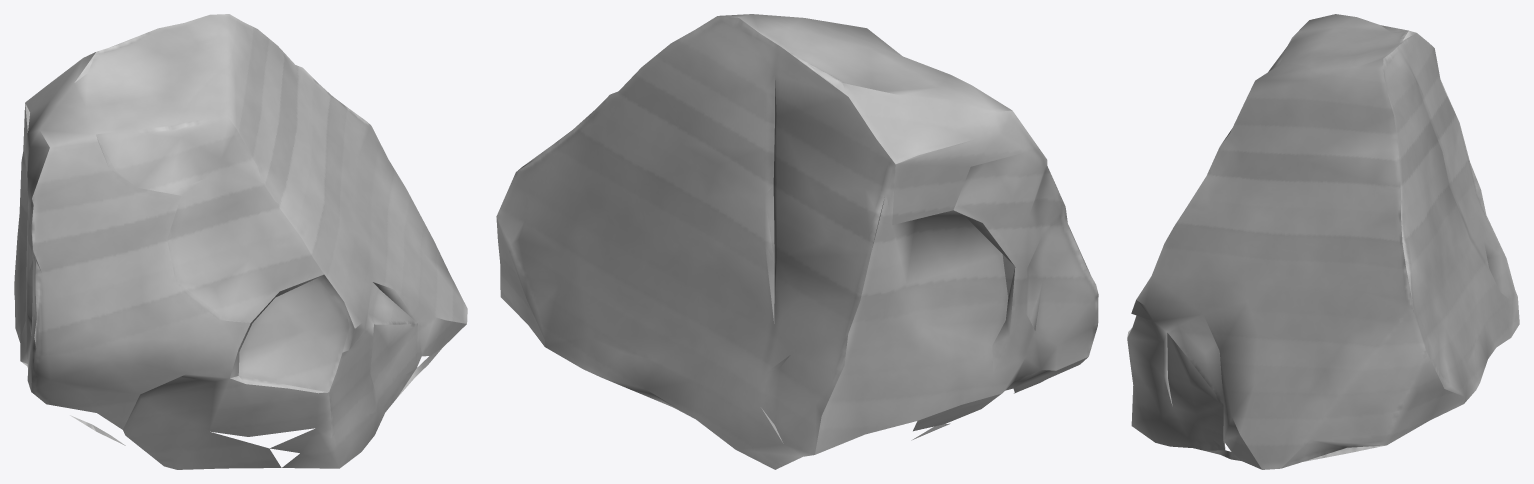
The model's file is sculpted_boulder_01.glb.
The picture shows the model from 3 angles, left to right: view 1: azimuth 30°, elevation 25°; view 2: azimuth 150°, elevation 25°; view 3: azimuth 270°, elevation 25°; orthographic projection. The views are drawn at different scales.
Parts seen in each view (by area): view 1: sculpted_boulder_01; view 2: sculpted_boulder_01; view 3: sculpted_boulder_01.
Part boxes in pixels (x1,y1,x2,y2): sculpted_boulder_01: (14, 14, 467, 469); sculpted_boulder_01: (496, 14, 1098, 469); sculpted_boulder_01: (1127, 14, 1519, 469).
Size of the model in its own units: 1.71 by 1.33 by 1.29.
Materials: 1 (1 with a texture image).
